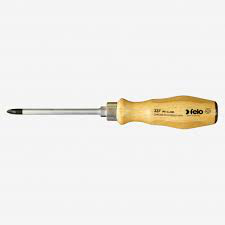screwdriver: (4, 84, 225, 138)
